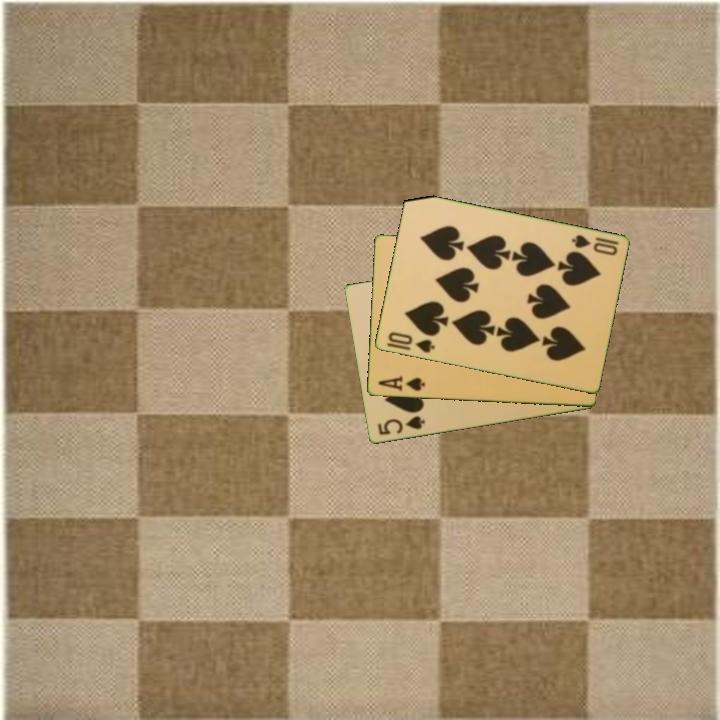10s: (568, 231, 622, 258), (384, 329, 437, 356)
5s: (374, 413, 427, 438)
As: (375, 373, 427, 394)
